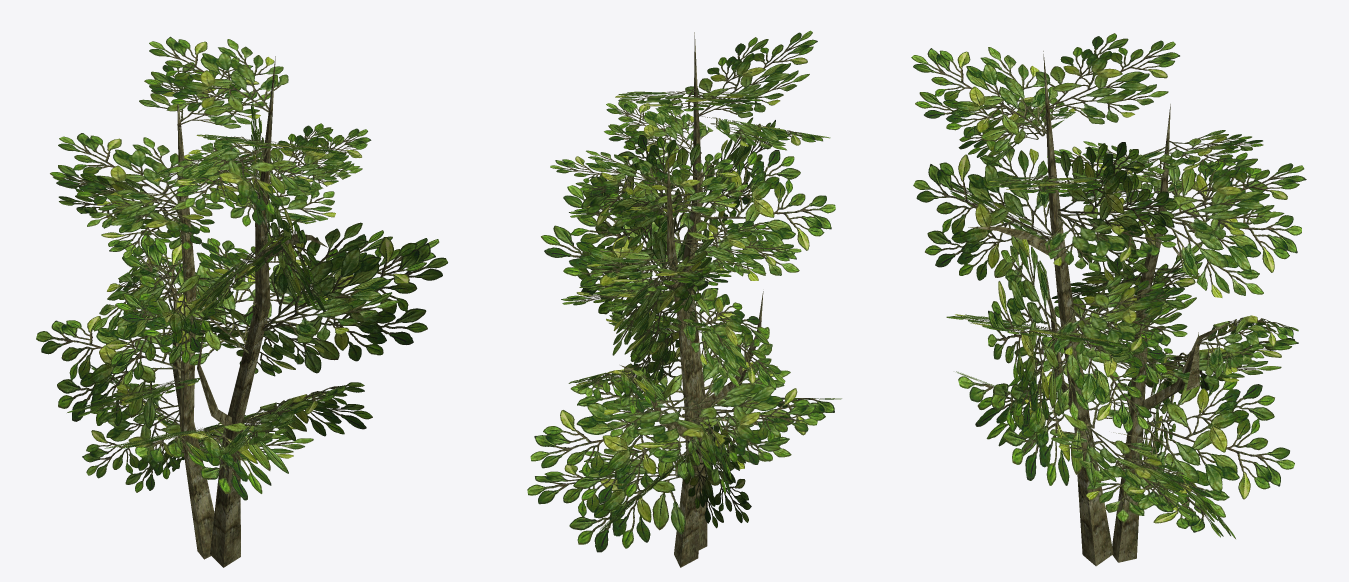
File: guanmu_06.FBX
3 renders of one model, left to right at view 1: azimuth 30°, elevation 25°; view 2: azimuth 150°, elevation 25°; view 3: azimuth 270°, elevation 25°, orthographic. The views are drawn at different scales.
Visible parts, largest first — view 1: guanmu_06_01; view 2: guanmu_06_01; view 3: guanmu_06_01.
Part boxes in pixels (bbox=[...]): guanmu_06_01: bbox=[36, 36, 447, 567]; guanmu_06_01: bbox=[527, 30, 841, 567]; guanmu_06_01: bbox=[911, 33, 1306, 566].
Size of the model in its own units: 2.65 by 3.69 by 2.92.
